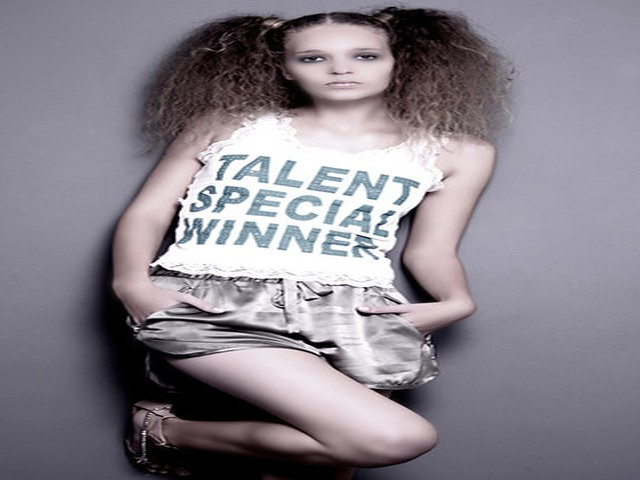Person: (107, 2, 506, 480)
